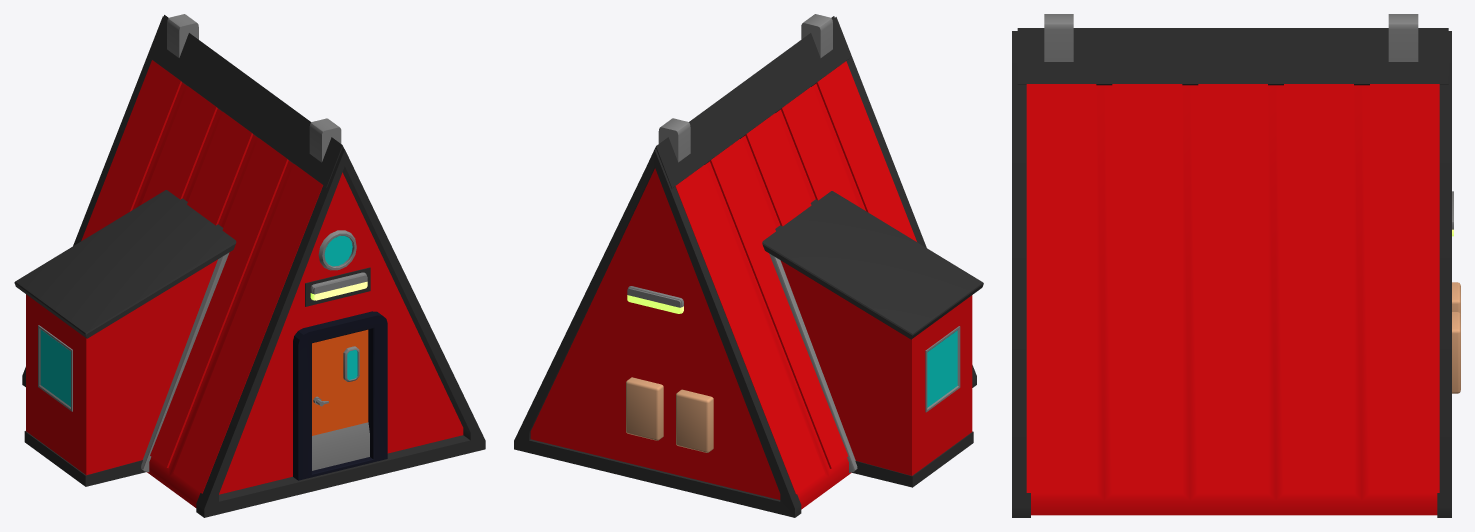
The model's file is resortCabin.fbx.
3 views of the same model, side by side, from view 1: azimuth 30°, elevation 25°; view 2: azimuth 150°, elevation 25°; view 3: azimuth 270°, elevation 25° (orthographic). The views are drawn at different scales.
Visible parts, largest first — view 1: Cube.127; view 2: Cube.127; view 3: Cube.127.
Boxes of the visible parts, <box> form: Cube.127: <box>14,14,485,517</box>; Cube.127: <box>514,14,983,517</box>; Cube.127: <box>1012,14,1460,517</box>.
Size of the model in its own units: 529 by 506 by 494.
